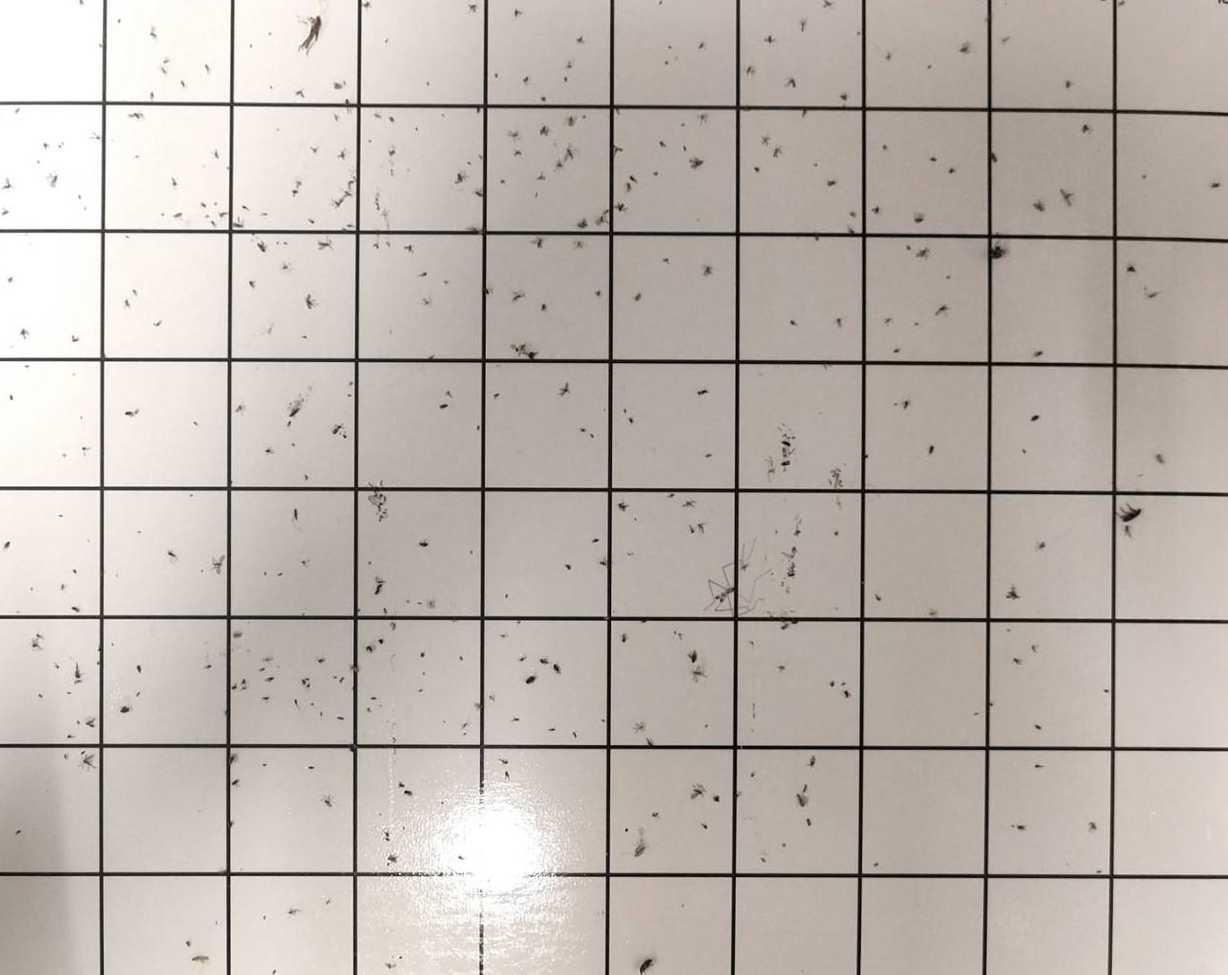test: (703, 572, 758, 620), (295, 11, 324, 57), (1112, 501, 1143, 524), (986, 243, 1009, 261), (1059, 186, 1075, 210), (209, 553, 226, 574), (79, 752, 98, 770), (638, 955, 655, 975), (596, 207, 612, 228), (315, 236, 334, 252), (933, 302, 950, 319), (303, 293, 317, 312), (691, 667, 710, 681), (687, 156, 704, 171), (126, 109, 145, 122), (917, 245, 932, 261), (633, 841, 647, 858), (558, 380, 571, 398), (287, 405, 303, 419), (453, 171, 468, 185), (538, 124, 553, 138), (333, 194, 347, 209), (373, 580, 386, 596), (343, 97, 356, 113), (255, 239, 268, 255), (231, 218, 247, 231), (189, 953, 212, 962), (563, 146, 577, 160), (690, 786, 705, 799), (533, 234, 546, 249), (744, 64, 756, 80), (73, 661, 83, 680), (796, 792, 807, 809), (614, 201, 628, 214), (958, 43, 971, 57), (47, 175, 61, 188), (987, 149, 999, 164), (610, 143, 625, 155), (84, 714, 95, 730), (696, 521, 709, 534), (785, 75, 798, 88), (633, 721, 646, 734), (332, 423, 344, 437), (1006, 588, 1020, 600), (1014, 821, 1028, 833), (687, 650, 698, 665), (799, 17, 809, 33), (226, 753, 239, 765), (323, 797, 335, 810), (473, 189, 486, 201), (1034, 200, 1046, 213), (576, 217, 589, 229), (565, 114, 577, 127), (763, 33, 776, 45), (1154, 452, 1166, 465), (824, 178, 838, 189), (786, 564, 797, 578), (467, 2, 478, 16), (2, 177, 13, 191), (1123, 524, 1133, 539), (69, 333, 81, 345), (619, 632, 631, 644), (703, 264, 715, 276), (1086, 820, 1098, 832), (166, 547, 177, 560), (617, 501, 630, 512), (683, 498, 696, 509), (912, 214, 925, 225), (628, 173, 639, 186), (760, 134, 771, 147), (337, 148, 348, 161), (217, 208, 230, 219), (687, 523, 697, 537), (800, 106, 810, 120), (772, 145, 782, 159), (18, 327, 29, 339), (348, 743, 360, 754), (387, 853, 399, 864), (524, 674, 536, 685), (539, 655, 550, 667), (645, 737, 656, 749), (1036, 540, 1048, 551), (508, 129, 520, 140), (294, 87, 305, 99), (158, 64, 170, 75), (161, 54, 172, 66), (332, 111, 343, 123), (173, 210, 184, 222), (280, 261, 291, 273), (1210, 179, 1222, 190), (122, 409, 135, 419), (623, 181, 633, 194), (808, 755, 817, 769), (152, 318, 163, 329), (121, 298, 132, 309), (439, 401, 450, 412), (234, 403, 245, 414), (551, 663, 562, 674), (1029, 412, 1040, 423), (512, 147, 523, 158), (555, 159, 566, 170), (699, 112, 710, 123), (201, 62, 212, 73), (513, 8, 524, 19), (294, 179, 305, 190), (1148, 290, 1159, 301), (119, 705, 131, 715), (403, 788, 415, 798), (403, 242, 413, 254), (526, 350, 538, 360), (1081, 123, 1091, 135), (780, 438, 792, 448), (790, 544, 800, 556), (149, 29, 159, 41), (331, 80, 343, 90), (90, 132, 102, 142), (346, 177, 356, 189), (134, 663, 143, 676), (535, 172, 548, 181), (292, 507, 300, 521), (266, 674, 277, 684), (364, 644, 375, 654), (324, 897, 334, 908), (1012, 656, 1023, 666), (512, 291, 522, 302), (422, 296, 432, 307), (574, 239, 585, 249), (575, 34, 585, 45), (848, 227, 858, 238), (781, 458, 791, 469), (1101, 684, 1111, 695), (927, 608, 938, 618), (473, 701, 484, 711), (487, 692, 497, 703), (362, 1, 373, 11), (287, 907, 299, 916), (590, 536, 602, 545), (389, 622, 398, 634), (902, 398, 911, 410), (1028, 644, 1040, 653), (1033, 761, 1045, 770), (177, 77, 186, 89), (170, 176, 179, 188), (383, 830, 391, 843), (212, 147, 220, 160), (712, 794, 722, 804), (801, 783, 811, 793), (1033, 723, 1043, 733), (633, 291, 643, 301), (593, 289, 603, 299), (512, 344, 522, 354), (926, 445, 936, 455), (871, 205, 881, 215), (1126, 264, 1136, 274), (848, 210, 858, 220), (697, 41, 707, 51), (1001, 35, 1011, 45), (352, 605, 362, 615), (130, 287, 139, 298), (79, 443, 90, 452), (418, 540, 429, 549), (230, 778, 241, 787), (376, 637, 387, 646), (31, 639, 40, 650), (232, 630, 243, 639), (759, 855, 768, 866), (698, 387, 709, 396), (884, 315, 893, 326), (426, 353, 435, 364), (789, 617, 800, 626), (310, 144, 321, 153), (41, 141, 50, 152), (1033, 349, 1045, 357), (335, 714, 345, 723), (397, 781, 407, 790), (183, 939, 193, 948), (444, 388, 453, 398), (518, 654, 527, 664), (511, 715, 521, 724), (503, 769, 512, 779), (599, 558, 608, 568), (873, 593, 882, 603), (842, 689, 851, 699), (539, 302, 548, 312), (419, 270, 429, 279), (481, 286, 490, 296), (892, 346, 902, 355), (881, 142, 890, 152), (474, 104, 483, 114), (539, 94, 548, 104), (884, 51, 893, 61), (986, 699, 995, 709), (779, 622, 788, 632), (1095, 868, 1105, 877), (460, 721, 469, 731), (0, 207, 10, 216), (240, 203, 249, 213), (209, 219, 218, 229), (386, 147, 395, 157), (613, 105, 622, 115), (69, 604, 80, 612), (571, 729, 579, 740), (499, 757, 510, 765), (777, 663, 788, 671), (498, 631, 509, 639), (805, 817, 813, 828), (1064, 79, 1072, 90), (373, 111, 384, 119), (822, 1, 834, 8), (58, 582, 67, 591), (204, 662, 213, 671), (53, 661, 62, 670), (14, 828, 23, 837), (61, 753, 70, 762), (261, 694, 270, 703), (317, 656, 326, 665), (337, 675, 346, 684), (385, 961, 394, 970), (264, 446, 273, 455), (564, 562, 573, 571), (702, 822, 711, 831), (651, 810, 660, 819), (662, 256, 671, 265), (566, 61, 575, 70), (793, 527, 802, 536), (1020, 446, 1029, 455), (382, 36, 391, 45), (290, 187, 299, 196), (12, 106, 21, 115), (281, 239, 290, 248), (626, 550, 635, 559), (247, 280, 257, 288), (4, 540, 12, 550), (192, 419, 200, 429), (627, 416, 635, 426), (835, 316, 843, 326), (387, 115, 397, 123), (840, 92, 848, 102), (147, 89, 155, 99), (307, 217, 317, 225), (1116, 0, 1126, 8), (303, 472, 310, 483), (134, 690, 142, 699), (230, 682, 238, 691), (292, 697, 300, 706), (418, 651, 427, 659), (285, 419, 293, 428), (35, 632, 43, 641), (547, 726, 556, 734), (704, 451, 713, 459), (947, 166, 956, 174), (812, 234, 821, 242), (944, 273, 953, 281), (812, 160, 820, 169), (872, 860, 880, 869), (115, 16, 123, 25), (373, 242, 381, 251), (123, 233, 132, 241), (199, 199, 207, 208), (260, 210, 269, 218), (499, 177, 507, 186), (1140, 173, 1148, 182), (66, 733, 76, 740), (369, 695, 379, 702), (832, 530, 842, 537), (749, 771, 756, 781), (788, 319, 798, 326), (860, 452, 870, 459), (905, 243, 912, 253), (681, 143, 688, 153), (75, 0, 85, 7), (273, 239, 280, 249), (135, 528, 143, 536), (74, 718, 82, 726), (308, 763, 316, 771), (457, 854, 465, 862), (300, 559, 308, 567), (474, 424, 482, 432), (668, 492, 676, 500), (828, 680, 836, 688), (781, 841, 789, 849), (522, 75, 530, 83), (562, 75, 570, 83), (1004, 627, 1012, 635), (404, 597, 412, 605), (56, 142, 64, 150), (663, 58, 671, 66), (318, 709, 325, 718), (397, 953, 404, 962), (382, 606, 389, 615), (752, 165, 761, 172), (657, 140, 666, 147), (441, 278, 450, 285), (300, 333, 309, 340), (748, 639, 757, 646), (399, 824, 406, 833), (97, 41, 104, 50), (133, 153, 142, 160), (76, 192, 83, 201), (533, 190, 540, 199), (657, 0, 666, 7), (6, 276, 14, 283), (71, 568, 79, 575), (227, 820, 234, 828), (240, 678, 248, 685), (300, 678, 308, 685), (261, 913, 268, 921), (341, 433, 348, 441), (276, 571, 284, 578), (61, 451, 68, 459), (458, 654, 465, 662), (503, 592, 510, 600), (417, 686, 424, 694), (468, 548, 475, 556), (624, 826, 631, 834), (588, 432, 595, 440), (622, 407, 629, 415), (346, 379, 354, 386), (930, 155, 938, 162), (652, 169, 659, 177), (493, 71, 500, 79), (366, 137, 374, 144), (679, 121, 686, 129), (973, 710, 980, 718), (703, 722, 710, 730), (677, 632, 684, 640), (439, 799, 447, 806), (415, 599, 423, 606), (266, 29, 273, 37), (465, 159, 473, 166), (667, 43, 674, 51), (632, 516, 639, 524), (773, 529, 781, 536), (640, 618, 649, 624), (159, 210, 165, 219), (477, 152, 483, 161), (290, 440, 297, 447), (493, 391, 500, 398), (365, 706, 372, 713), (579, 427, 586, 434), (424, 79, 431, 86), (35, 158, 42, 165), (212, 200, 219, 207), (267, 83, 274, 90), (439, 112, 446, 119), (855, 29, 862, 36), (23, 363, 31, 369), (8, 393, 14, 401), (37, 692, 43, 700), (258, 666, 266, 672), (262, 570, 268, 578), (841, 680, 847, 688), (600, 716, 606, 724), (57, 513, 64, 519), (187, 493, 194, 499), (66, 690, 72, 697), (80, 750, 87, 756), (261, 761, 268, 767), (346, 392, 353, 398), (413, 125, 420, 131), (581, 113, 588, 119), (926, 63, 932, 70), (81, 205, 87, 212), (204, 213, 210, 220), (248, 41, 254, 48), (272, 969, 278, 975), (914, 321, 920, 327), (367, 560, 373, 566), (462, 730, 467, 737)
